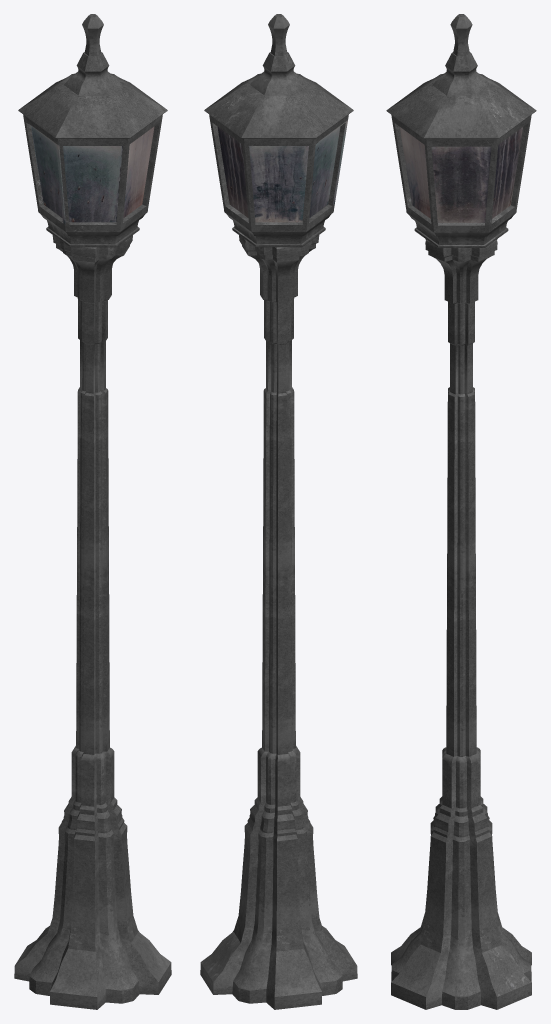
Rendered from streetlight.obj.
3 renders of one model, left to right at view 1: azimuth 30°, elevation 25°; view 2: azimuth 150°, elevation 25°; view 3: azimuth 270°, elevation 25°, orthographic.
Visible parts, largest first — view 1: Street-Lantern; view 2: Street-Lantern; view 3: Street-Lantern.
Boxes of the visible parts, x1=… form: Street-Lantern: x1=14, y1=14, x2=171, y2=1009; Street-Lantern: x1=200, y1=14, x2=357, y2=1009; Street-Lantern: x1=386, y1=14, x2=536, y2=1009.
Size of the model in its own units: 0.5376 by 4.06 by 0.573.
1 material, 1 textured.
